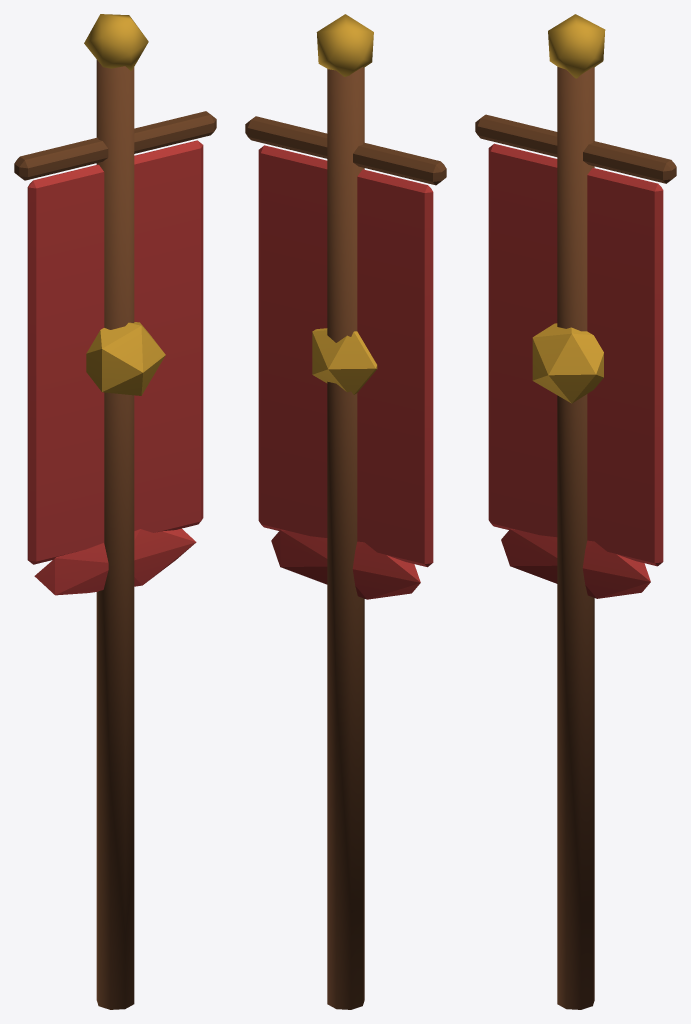
File: banner_red.glb
3 renders of one model, left to right at view 1: azimuth 30°, elevation 25°; view 2: azimuth 150°, elevation 25°; view 3: azimuth 330°, elevation 25°, orthographic.
Visible parts, largest first — view 1: banner_red; view 2: banner_red; view 3: banner_red.
Boxes of the visible parts, x1,y1,x2,y2 form: banner_red: (14, 14, 216, 1009); banner_red: (245, 14, 446, 1009); banner_red: (475, 14, 676, 1009).
Size of the model in its own units: 0.7 by 3.34 by 0.28.
